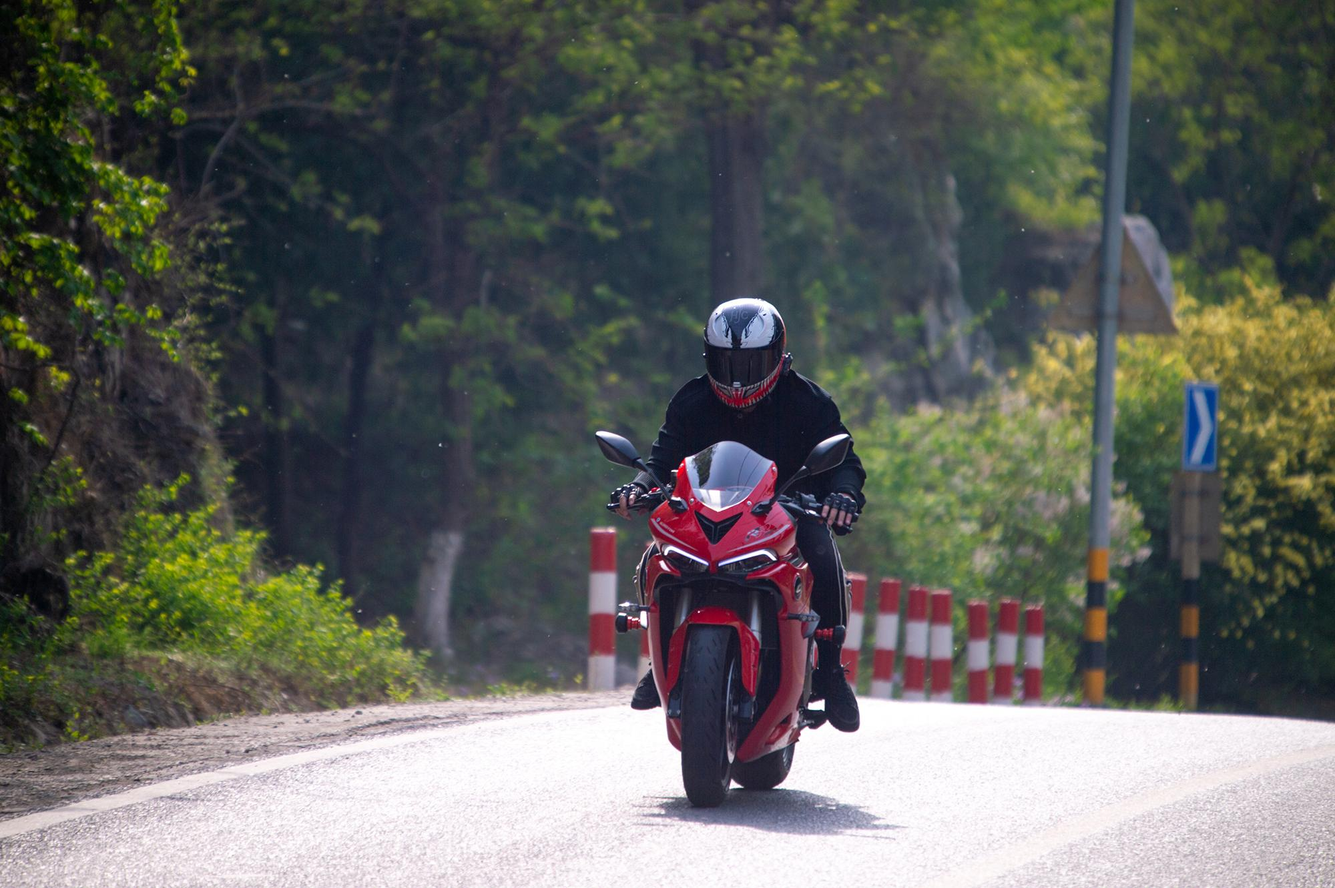helmet: (702, 297, 794, 411)
